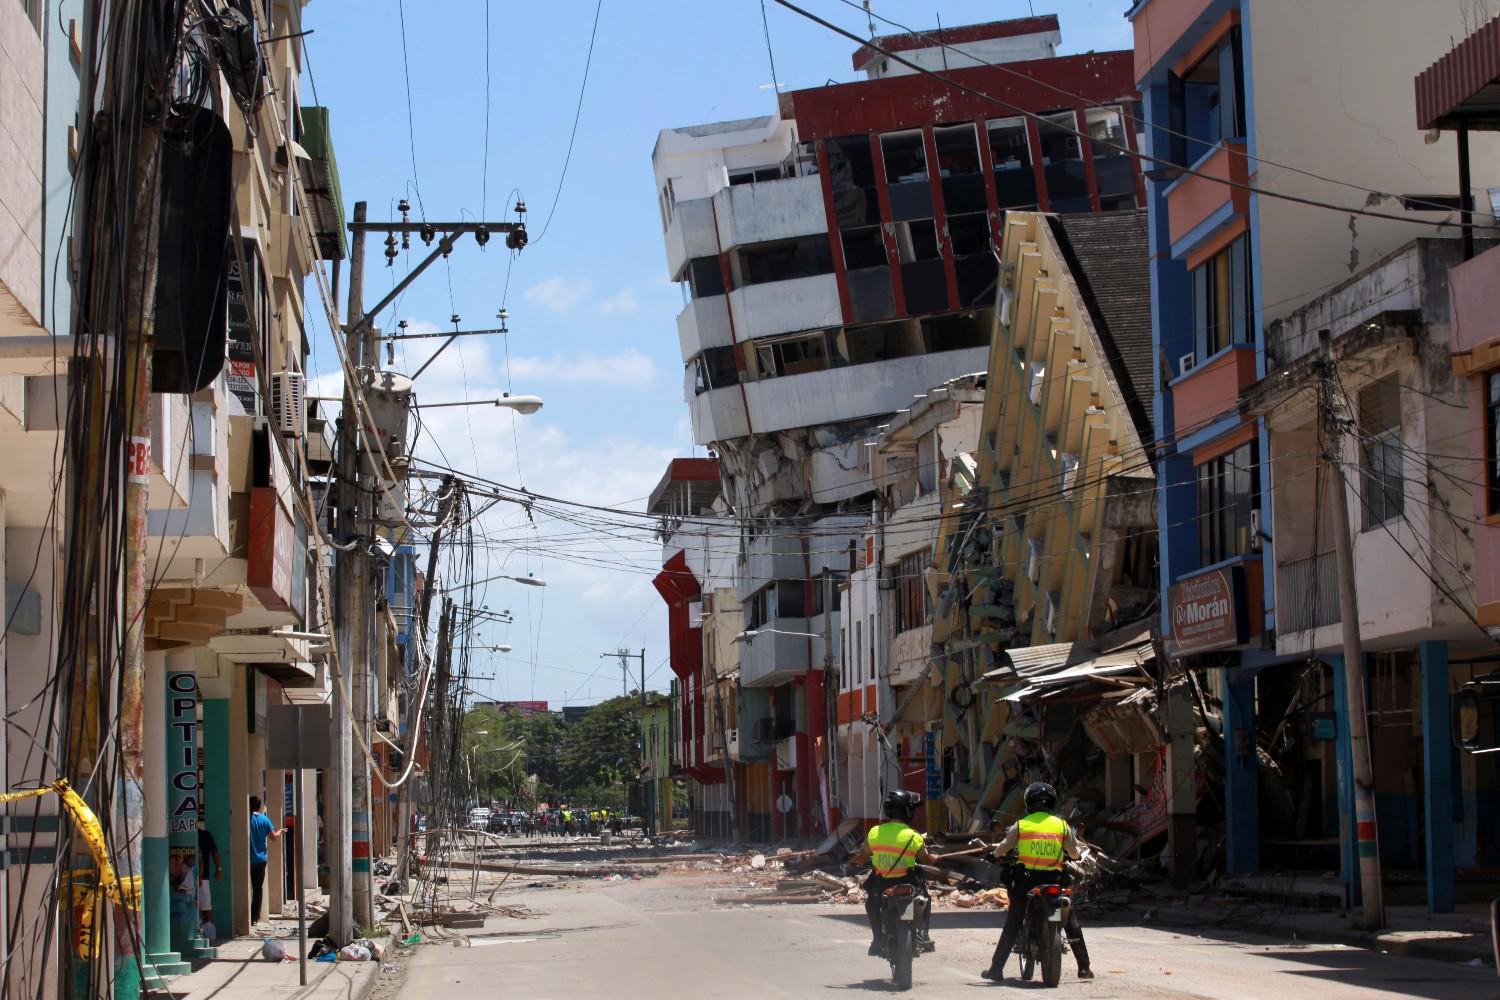destroyed: (628, 10, 1176, 875)
